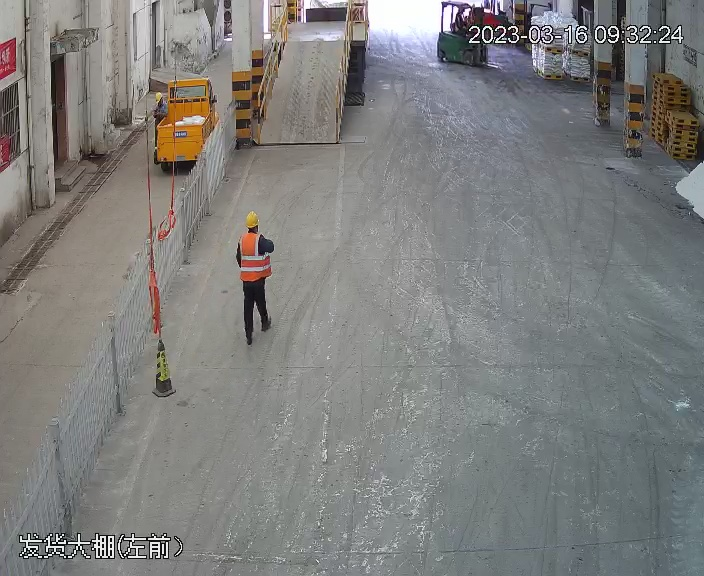head: (236, 210, 271, 254), (152, 92, 168, 119)
helmet: (244, 210, 260, 228), (153, 92, 163, 104)
people: (233, 205, 276, 345)
